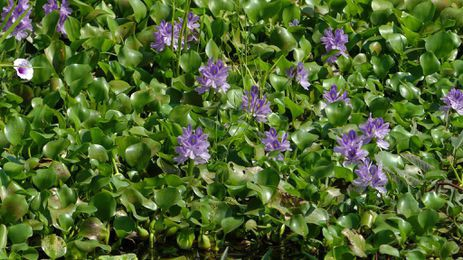water_hyacinth: (0, 0, 463, 260)
